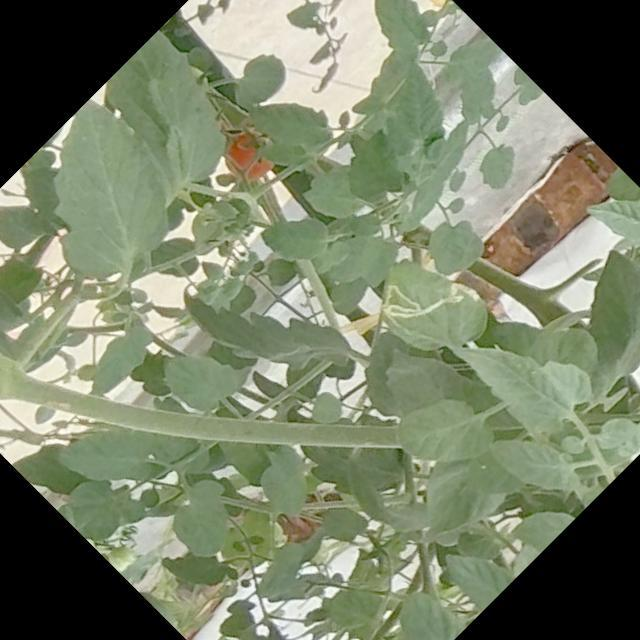Tomato target spot leaf: (358, 235, 500, 377)
